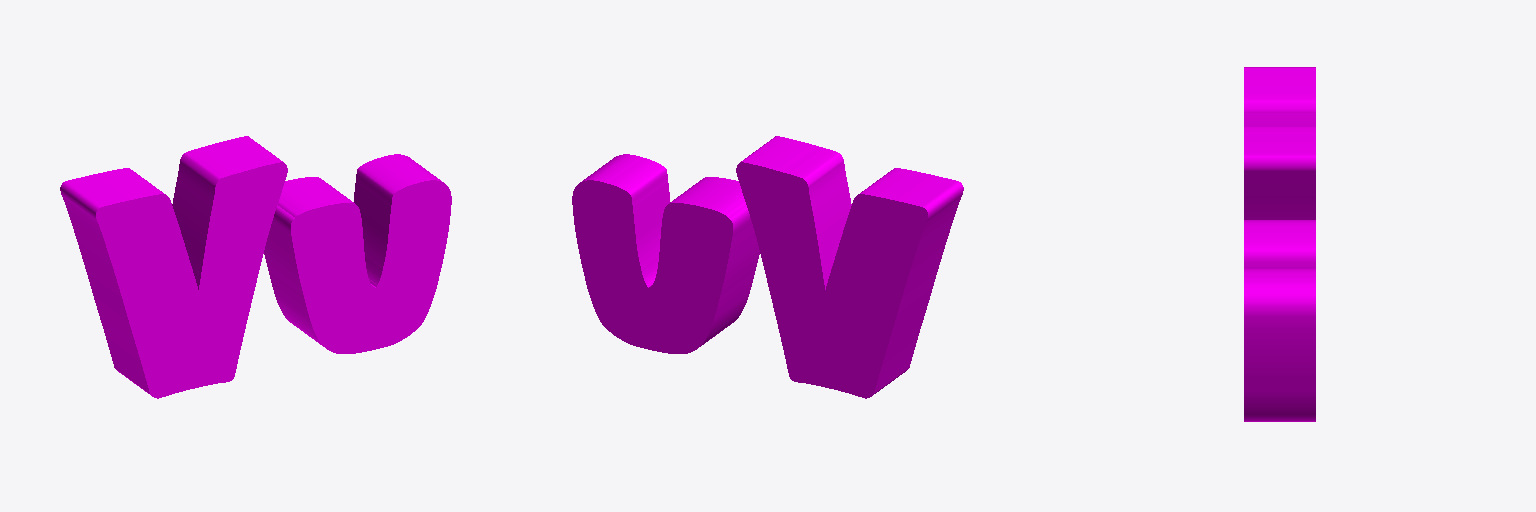
File: Letter_v.obj
3 renders of one model, left to right at view 1: azimuth 30°, elevation 25°; view 2: azimuth 150°, elevation 25°; view 3: azimuth 270°, elevation 25°, orthographic.
Visible parts, largest first — view 1: Text; view 2: Text; view 3: Text.
Boxes of the visible parts, <box> form: Text: <box>60,136,451,398</box>; Text: <box>572,136,963,398</box>; Text: <box>1244,67,1315,421</box>.
Size of the model in its own units: 1.16 by 0.6536 by 0.2.